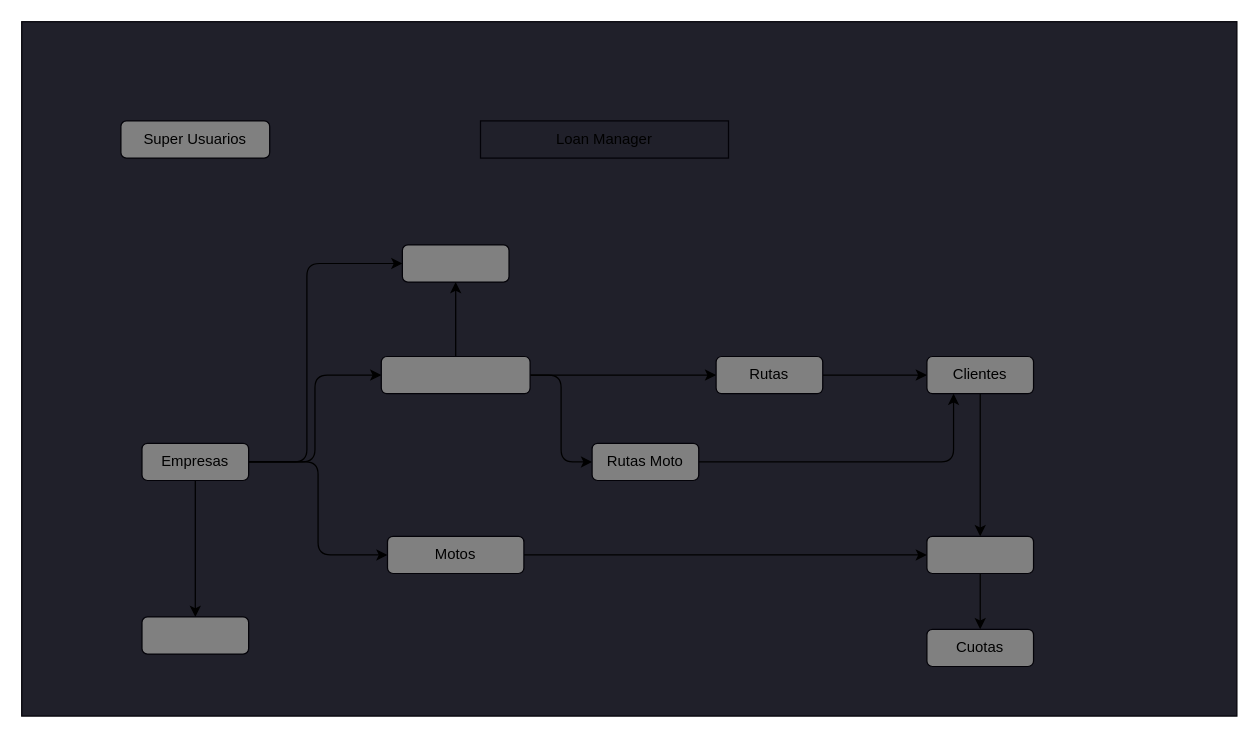
The diagram is 1259 pixels wide and 738 high, and some of its shapes have lost their labels. Here are the shapes that lost their labels. From the top down, the centre of each, then its label:
the point at 455,263: Balances
the point at 455,374: Usuarios
the point at 980,554: Prestamos
the point at 195,635: Facturación
